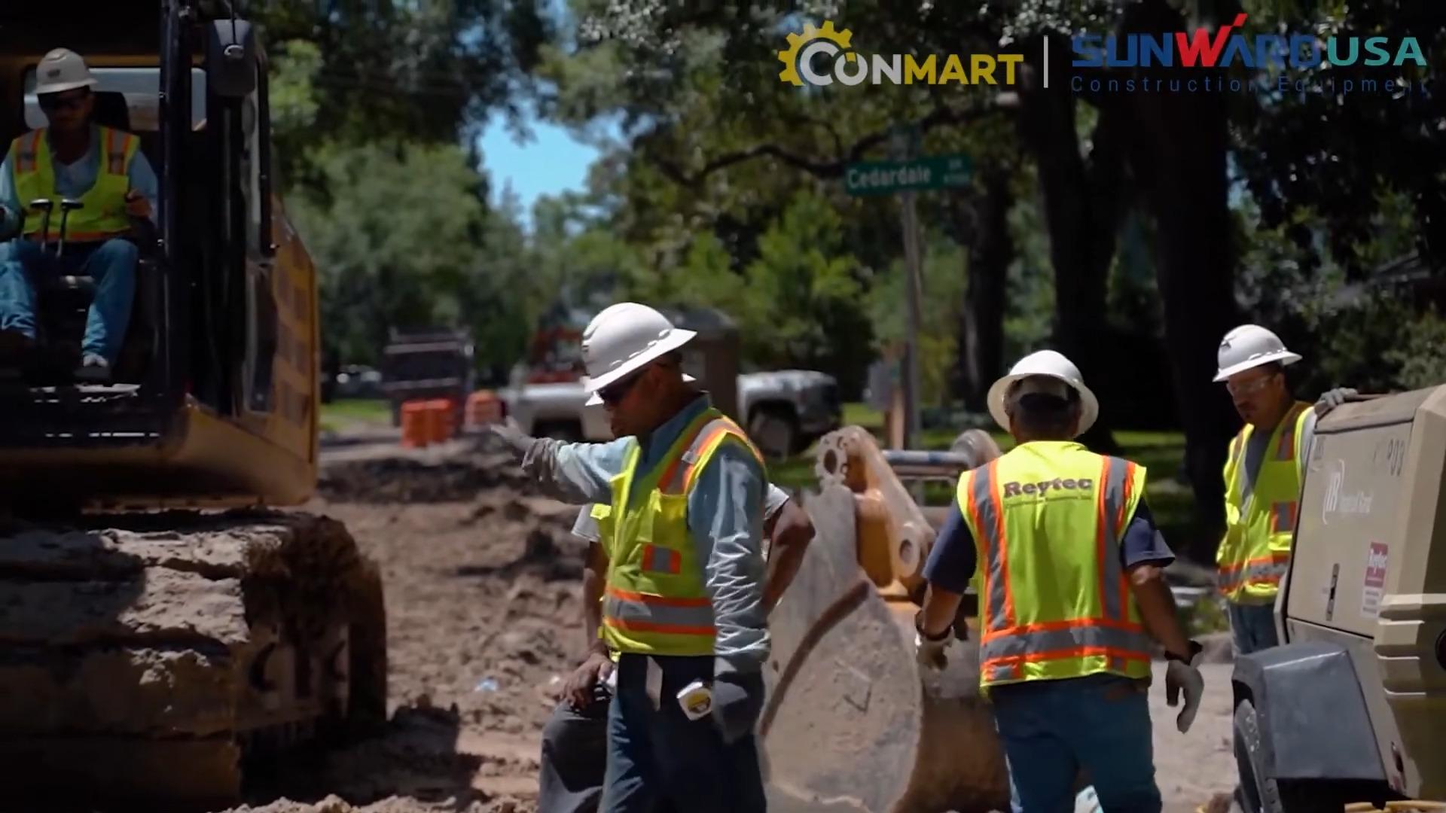Gloves: (1156, 638, 1207, 728), (700, 664, 766, 730), (497, 414, 559, 478), (911, 597, 956, 679), (1312, 384, 1363, 412)
Helmet: (572, 297, 672, 390), (990, 359, 1100, 431), (1211, 326, 1295, 380), (24, 47, 85, 96)
Person: (914, 349, 1204, 812), (0, 51, 164, 382), (1194, 305, 1301, 687)
Safety Boot: (70, 352, 113, 385)
Safety Vest: (567, 292, 796, 802), (970, 463, 1145, 670), (608, 438, 746, 649), (1237, 435, 1312, 604), (8, 141, 134, 241)
bare-arms: (574, 644, 616, 706)
